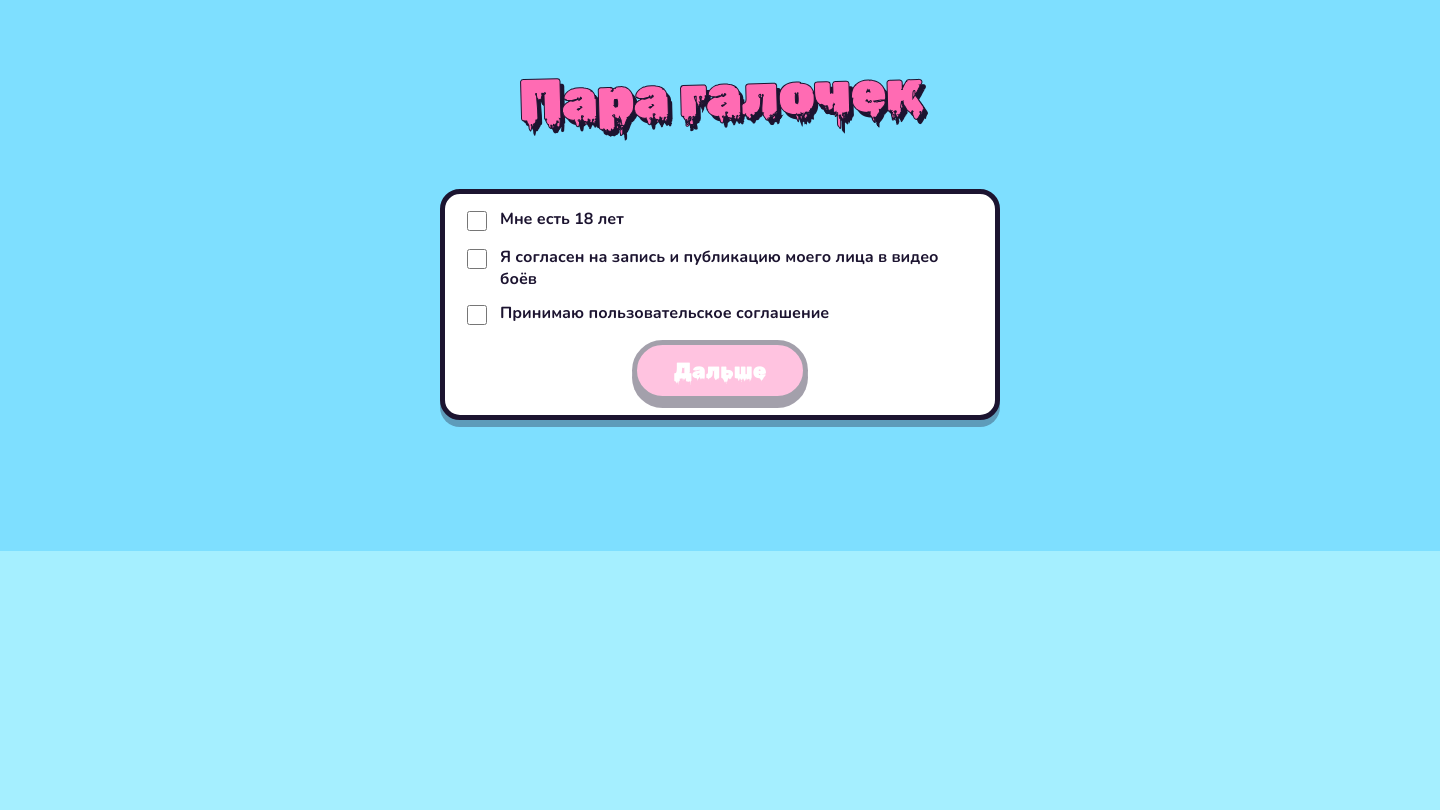
Scenario: Consent — criterion 4: error handling › criterion-4: shows error-message on ApiError(422) and user stays on consent screen
Click the checkbox with test id "checkbox-adult" at (477,221), box 467,211 -> 487,231
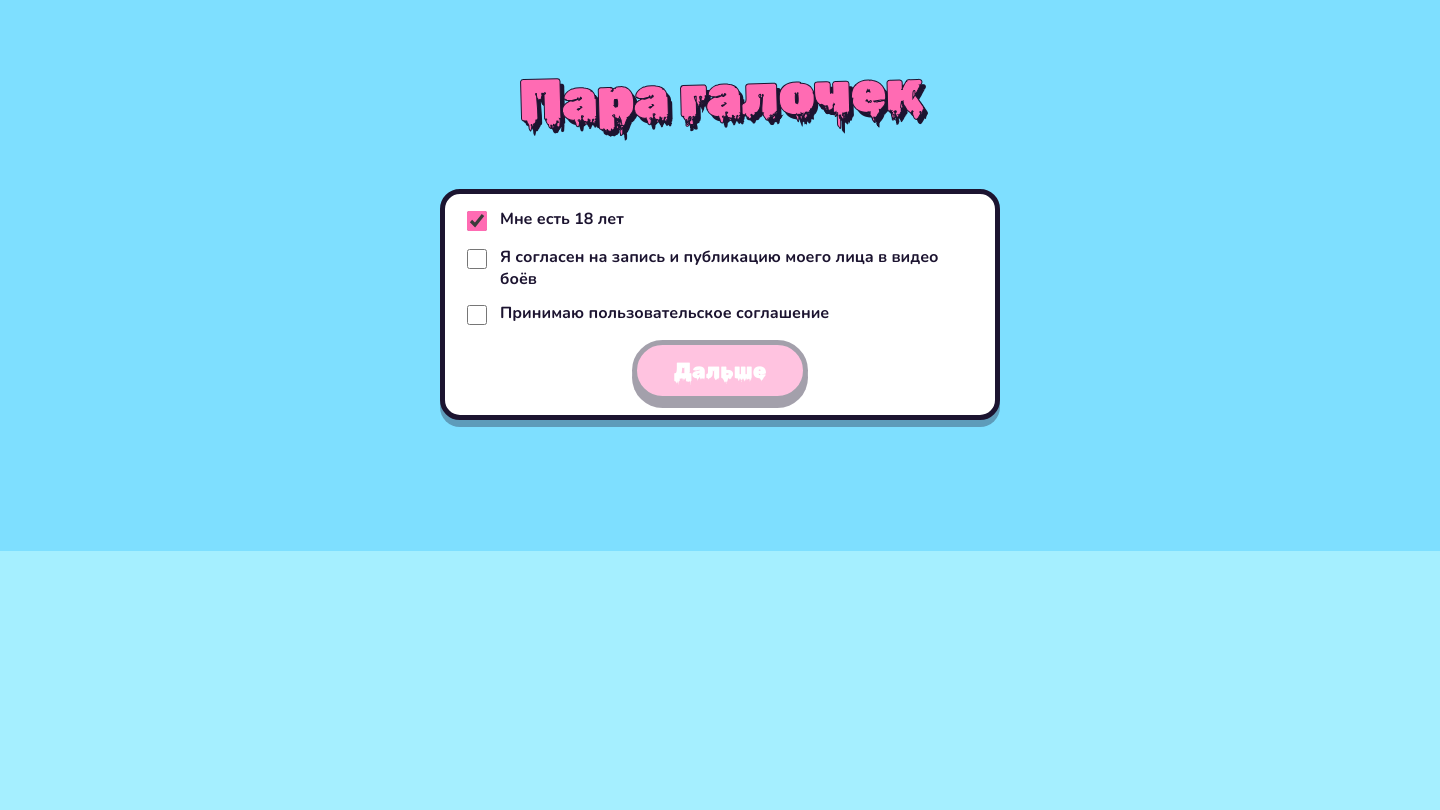
Click the checkbox with test id "checkbox-recording" at (477,259), box 467,249 -> 487,269
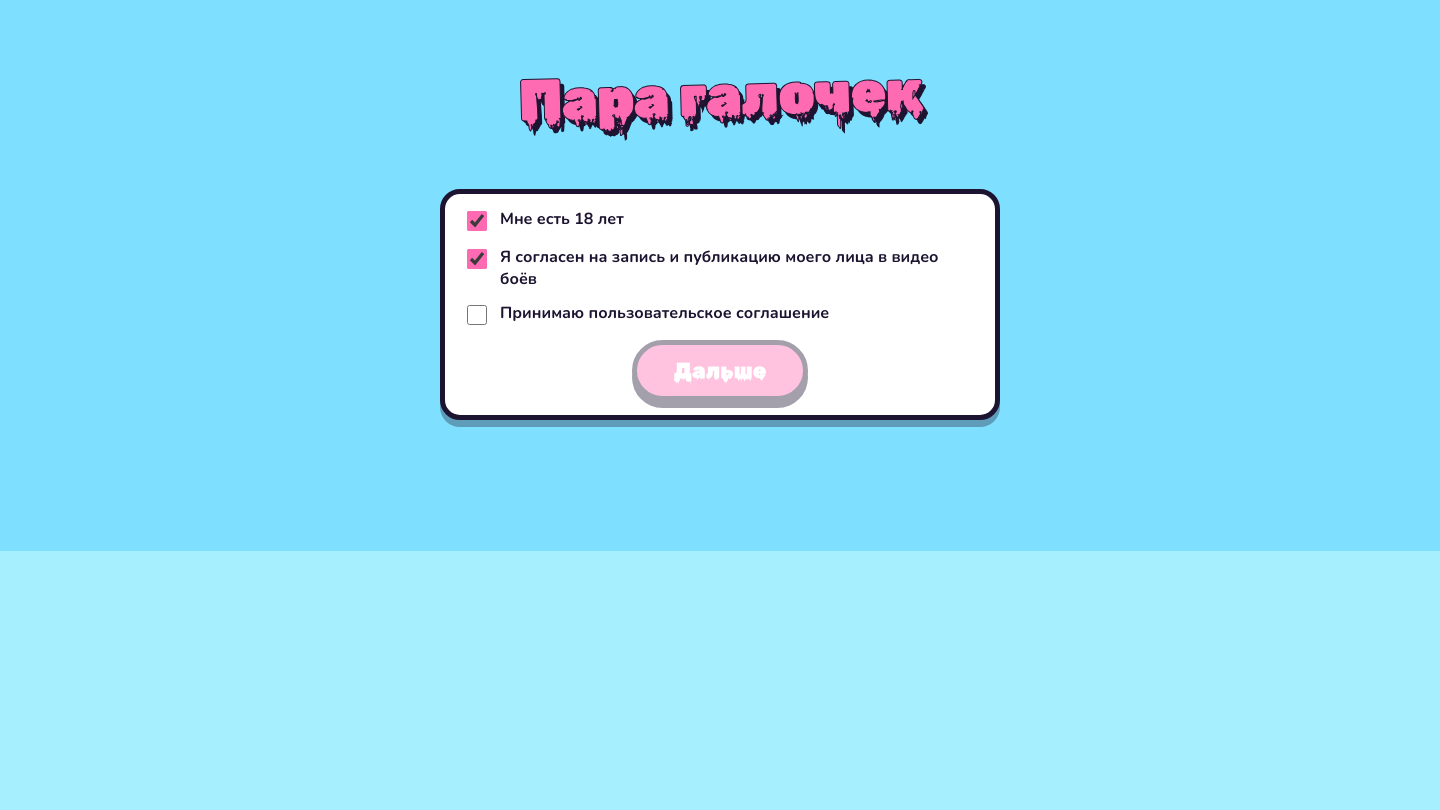
Click the checkbox with test id "checkbox-tos" at (477,315), box 467,305 -> 487,325
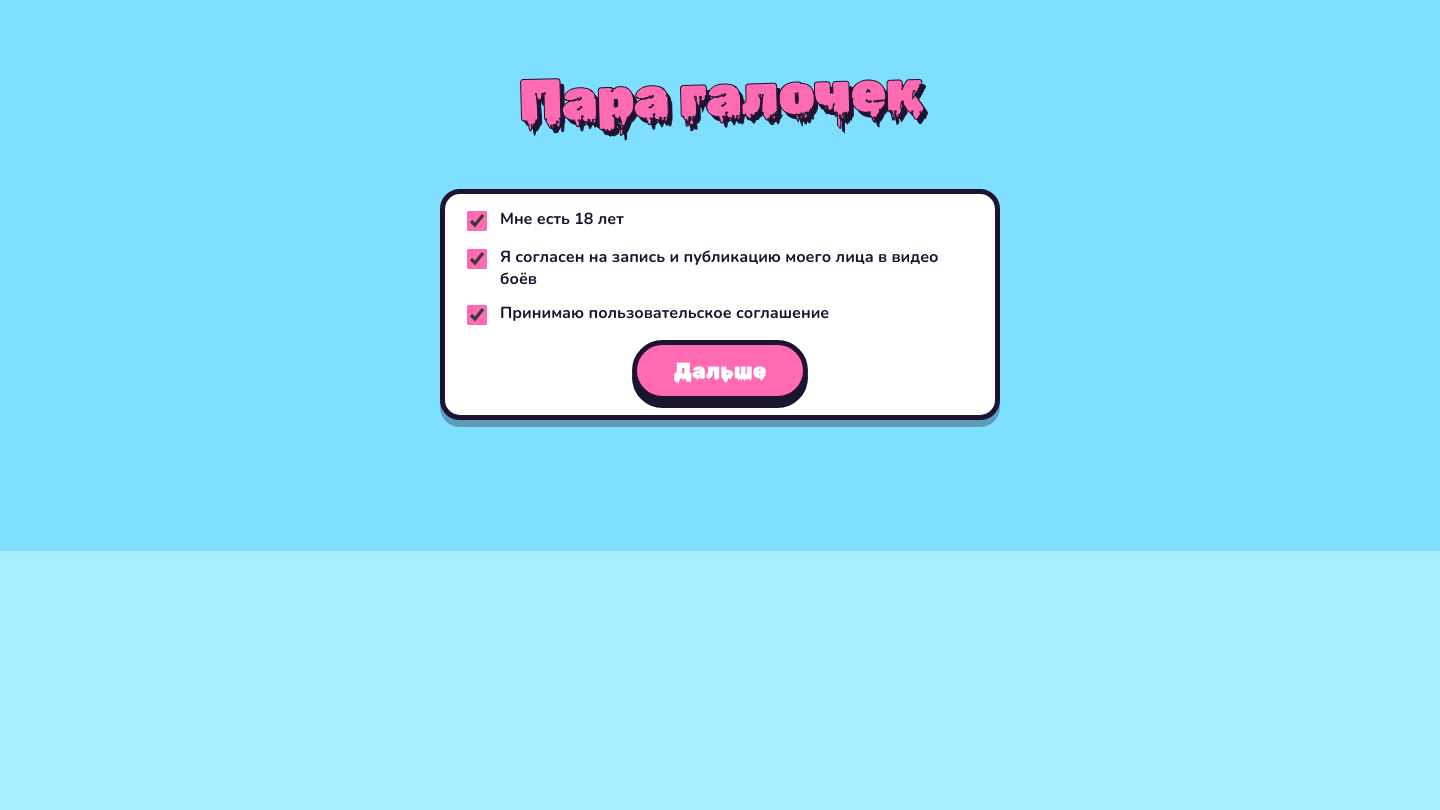
Click the button with test id "btn-continue" at (720,370), box 632,340 -> 808,401
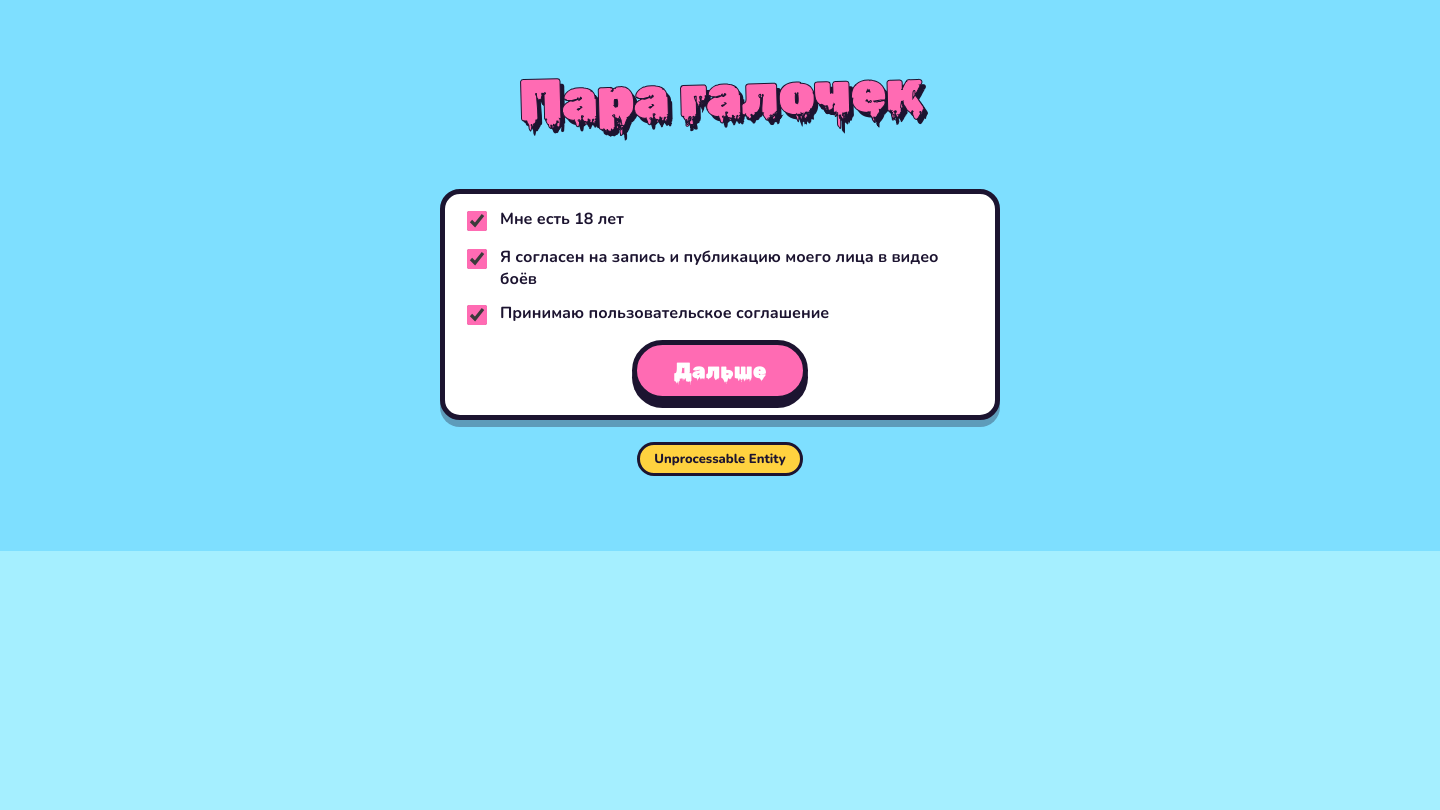
Check: the message "Unprocessable Entity" is shown, box 637,442 -> 803,476
